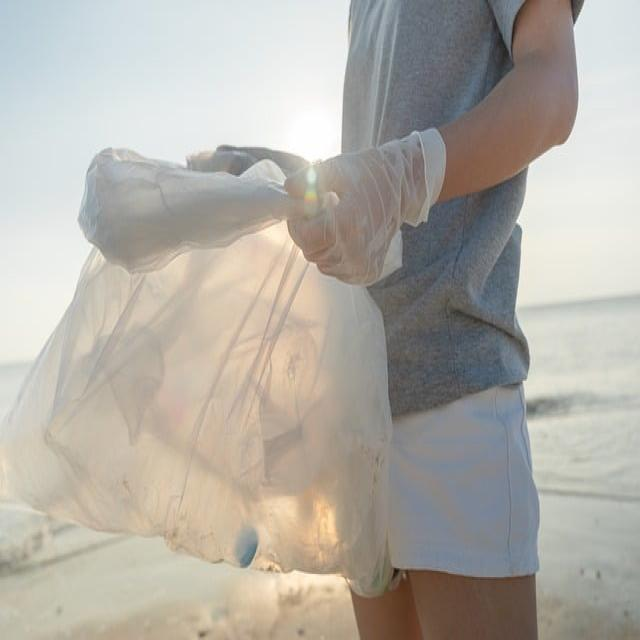plastic: (102, 232, 301, 504)
